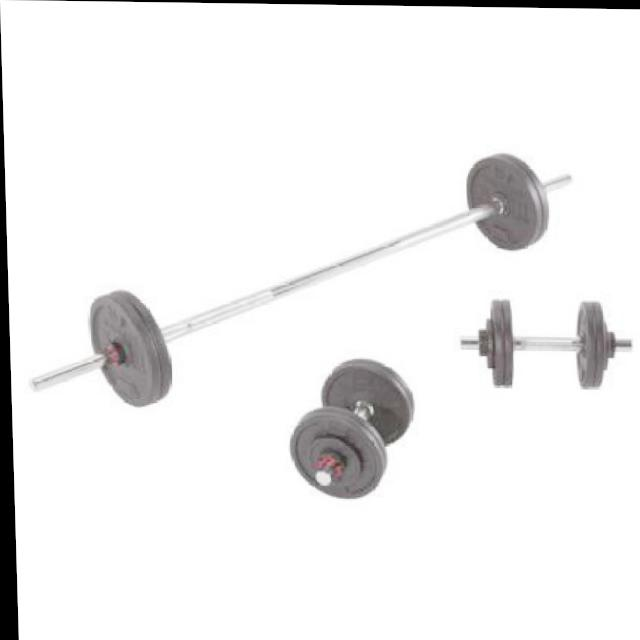barbell: (19, 282, 159, 415)
